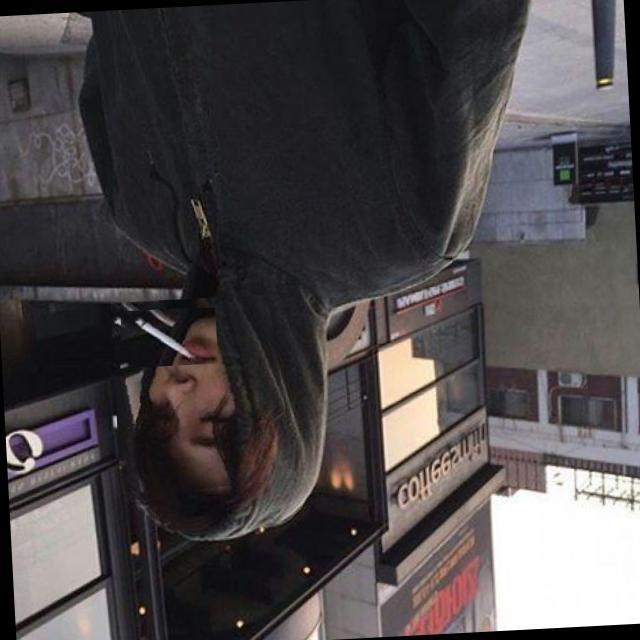cigarette: (117, 306, 218, 368)
